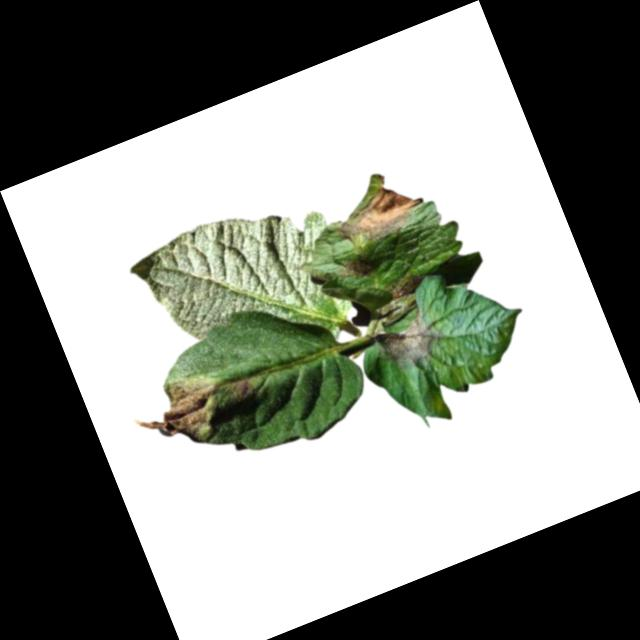Late_blight: (123, 361, 238, 464), (325, 173, 431, 254), (370, 308, 444, 380), (381, 267, 428, 301), (336, 251, 376, 285), (227, 375, 256, 403)
